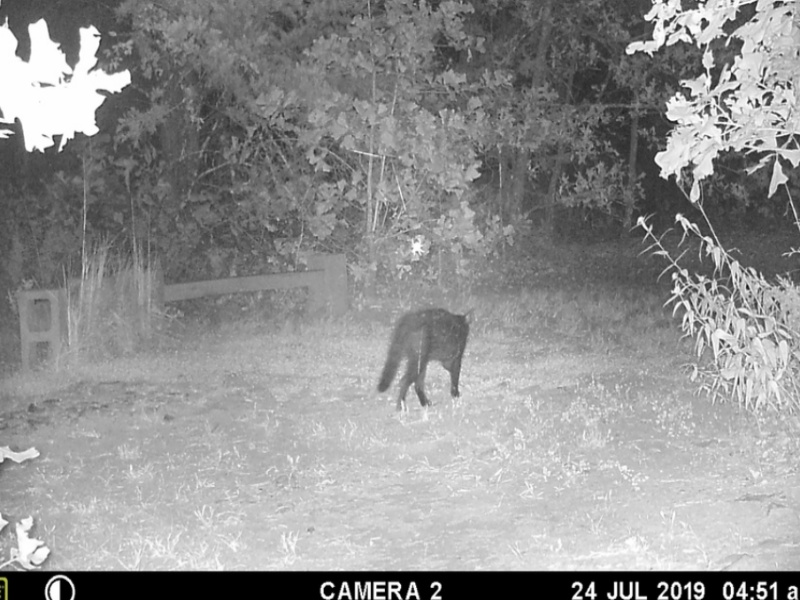cat: (371, 302, 478, 417)
